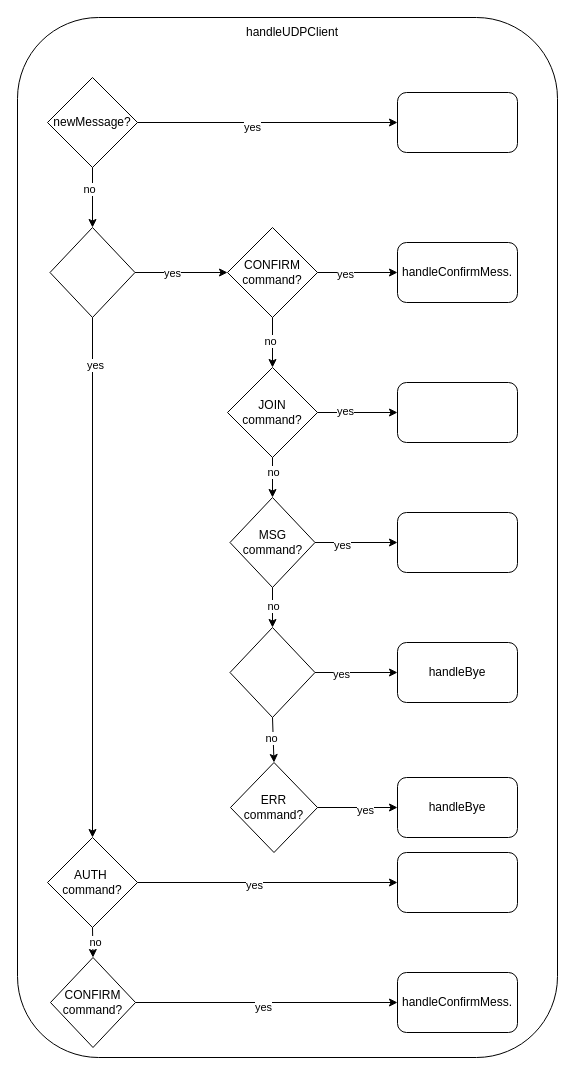
The diagram is 575 pixels wide and 1075 high, and some of its shapes have lost their labels. The shapes that lost their labels are listed below. From the top down, each one's centre as x and y in pixels, then its label:
(x=457, y=122): send just confirm
(x=92, y=272): is Authorized?
(x=457, y=412): handleJoinMess.
(x=457, y=542): handleMessage
(x=272, y=672): BYE command?
(x=457, y=882): handleAuth
